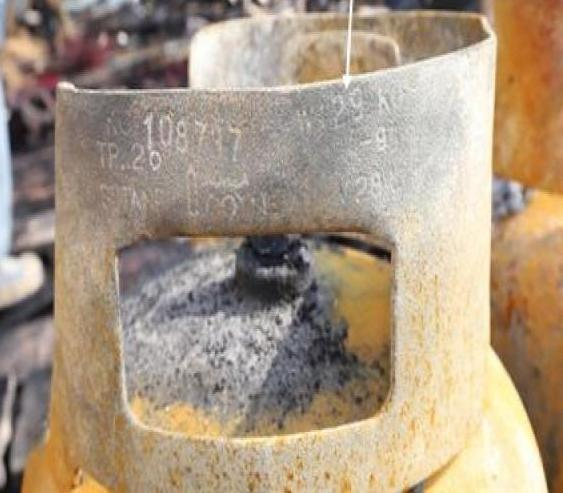cylinder: (1, 0, 563, 493)
